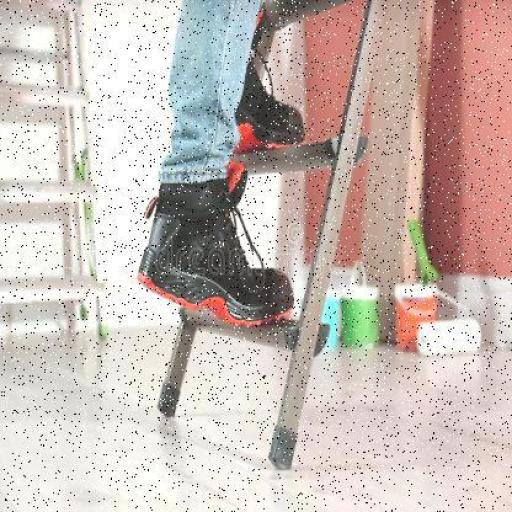safety_shoe: (129, 157, 296, 330), (232, 53, 306, 151)
